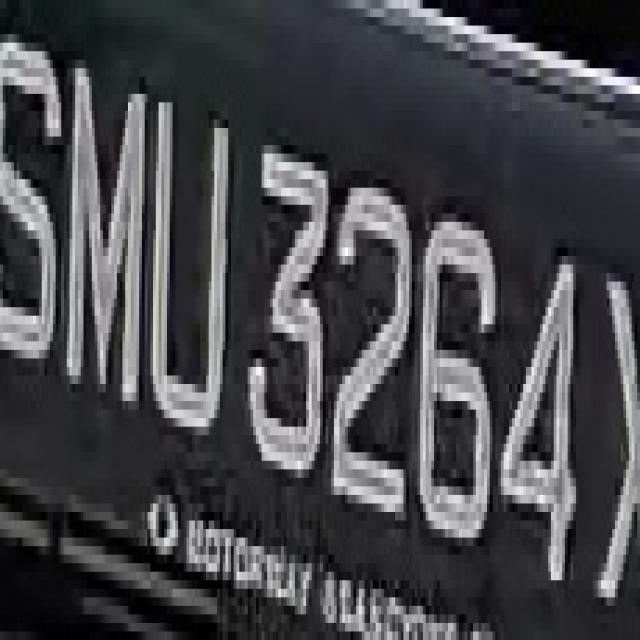2: (331, 111, 418, 563)
3: (250, 85, 334, 538)
4: (504, 205, 584, 606)
6: (415, 171, 498, 588)
M: (63, 0, 150, 469)
S: (0, 0, 61, 393)
U: (147, 77, 245, 461)
X: (595, 222, 640, 631)
